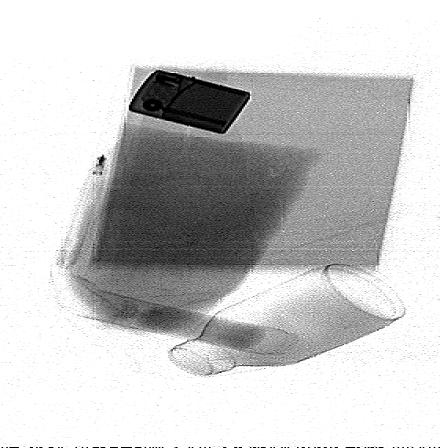Lighter: (127, 69, 252, 135)
